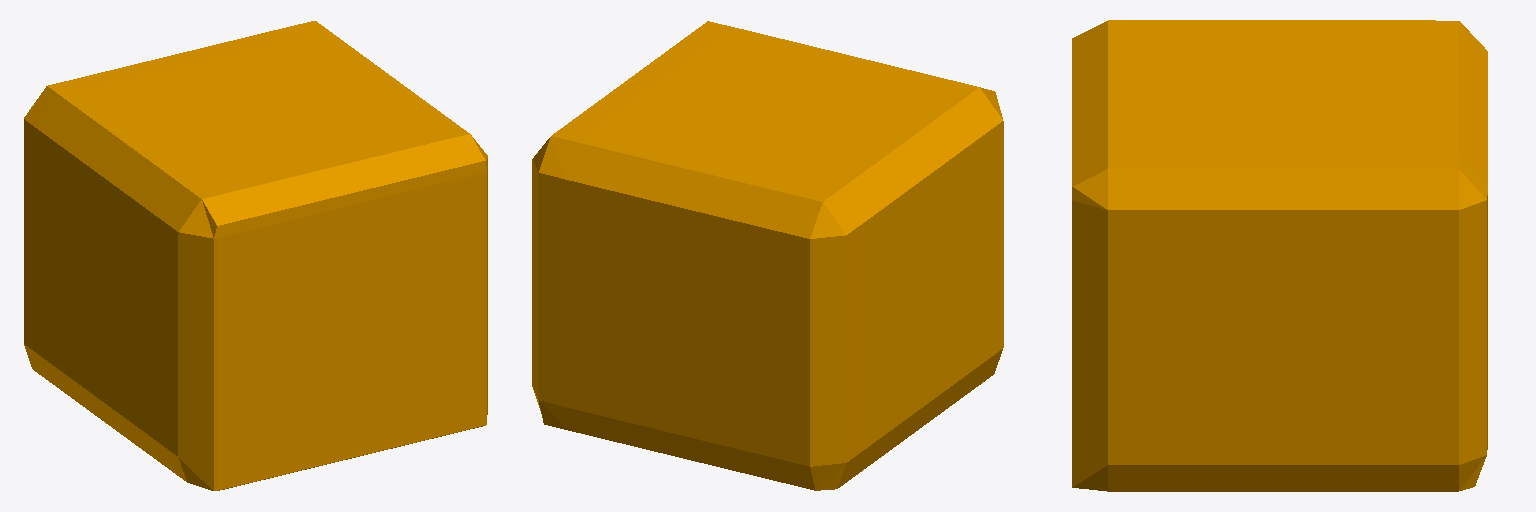
robot.urdf — cylinder_box_143:
<?xml version="1.0" encoding="utf-8"?>  <robot name="cylinder_box_143">   <link name="cylinder_box_143">     <visual>       <geometry>         <mesh filename="../meshes/box/box_143.stl" scale="1 1 1"/>       </geometry>     </visual>     <collision>       <geometry>         <mesh filename="../meshes/box/box_143.stl" scale="1 1 1"/>       </geometry>     </collision>     <inertial>        <origin         xyz="0 0 0"         rpy="0 0 0" />       <mass value="0.1681690570845181"/>       <origin rpy="0 0 0" xyz="0 0 0"/>       <inertia ixx="8.24221385907111e-05" ixy="7.639003081974686e-09" ixz="-7.745677281441566e-08" iyy="7.991695988841525e-05" iyz="-9.906970957956499e-08" izz="9.279182231945068e-05"/>     </inertial>   </link>  </robot>

--- Render facts (derived) ---
The picture shows the robot from 3 angles, left to right: view 1: azimuth 30°, elevation 25°; view 2: azimuth 150°, elevation 25°; view 3: azimuth 270°, elevation 25°; orthographic projection.
Model cylinder_box_143 with 1 links and 0 joints (none), rooted at cylinder_box_143, posed every joint at zero.
Links seen in each view (by area): view 1: cylinder_box_143; view 2: cylinder_box_143; view 3: cylinder_box_143.
Link boxes in pixels (x1=…): cylinder_box_143: x1=24, y1=21, x2=487, y2=490; cylinder_box_143: x1=532, y1=21, x2=1003, y2=490; cylinder_box_143: x1=1072, y1=20, x2=1487, y2=491.
Bounding box of the posed robot: 0.0578 × 0.0592 × 0.0506 m (x, y, z).
1 mesh visuals loaded from 1 distinct referenced files (1 binary STL).